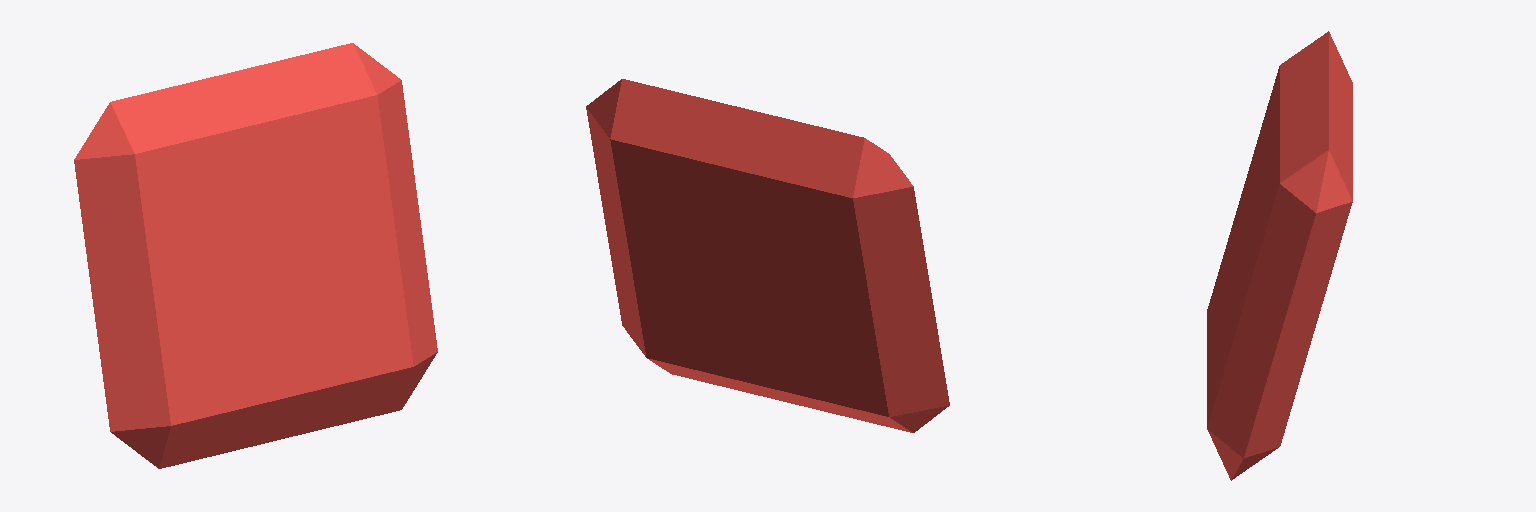
The model's file is pillow.obj.
3 renders of one model, left to right at view 1: azimuth 30°, elevation 25°; view 2: azimuth 150°, elevation 25°; view 3: azimuth 270°, elevation 25°, orthographic.
Size of the model in its own units: 0.23 by 0.2222 by 0.0885.